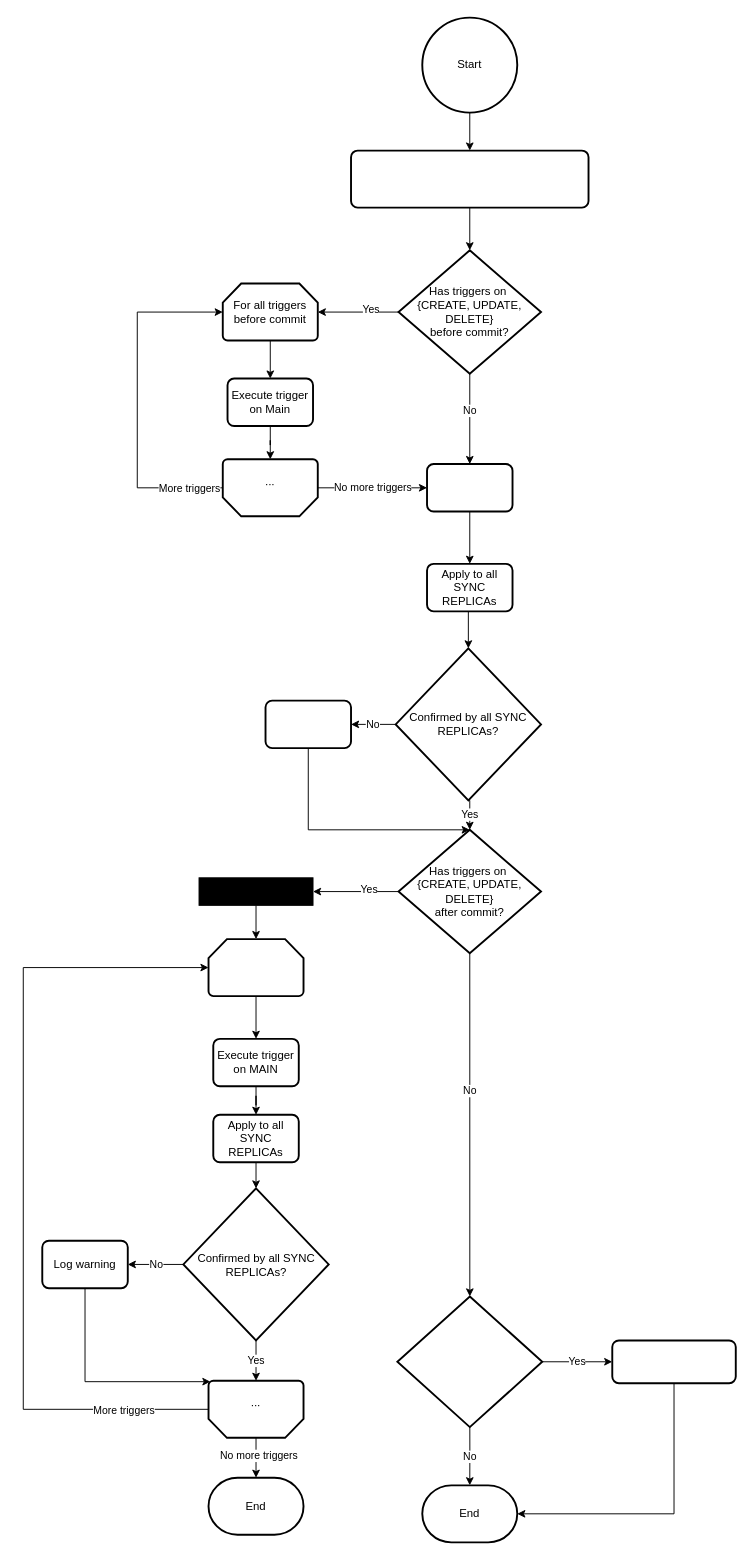
The diagram is 753 pixels wide and 1559 high, and some of its shapes have lost their labels. The shapes that lost their labels are listed below. From the top down, each one's centre as x and y in pixels, then its label:
(469,178): CREATE or UPDATE or DELETE
(469,487): Apply changes on MAIN
(308,724): Remember (0) reached
(255,891): Execute in parallel
(255,967): For all triggers after commit
(469,1361): Has (0) been reached?
(673,1361): DB Exception (ReplicationException)
